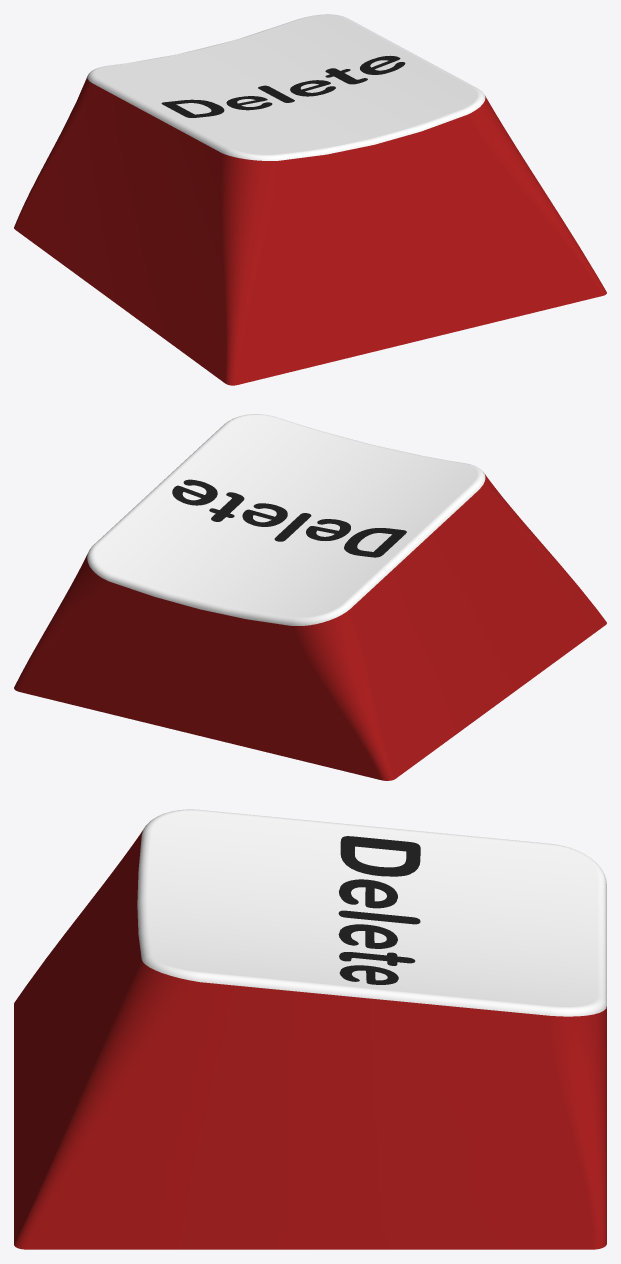
File: Delete.fbx
The picture shows the model from 3 angles, top to bottom: view 1: azimuth 30°, elevation 25°; view 2: azimuth 150°, elevation 25°; view 3: azimuth 270°, elevation 25°; orthographic projection. The views are drawn at different scales.
Visible parts, largest first — view 1: Body1; view 2: Body1; view 3: Body1.
Boxes of the visible parts, x1,y1,x2,y2 form: Body1: [14, 14, 606, 385]; Body1: [14, 414, 606, 780]; Body1: [14, 809, 606, 1249].
Size of the model in its own units: 18 by 7.85 by 18.
